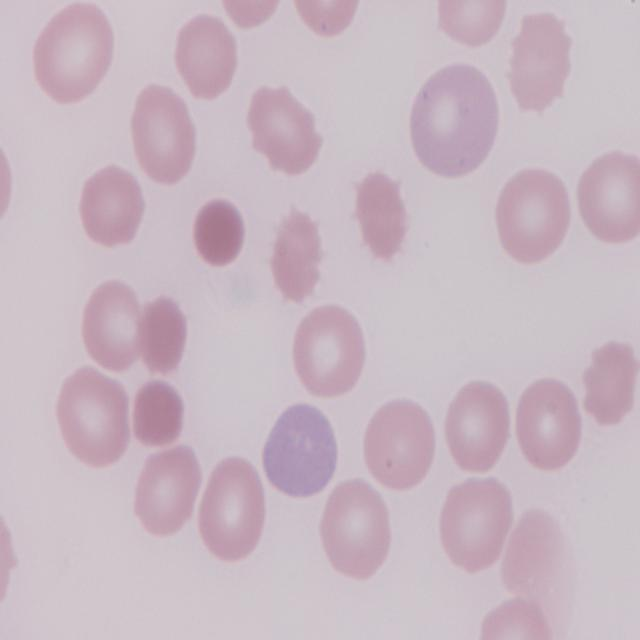RBC: (411, 61, 504, 180), (32, 0, 118, 110), (491, 159, 572, 268), (262, 398, 342, 506), (438, 472, 516, 579), (290, 302, 370, 406), (358, 394, 441, 494), (318, 476, 396, 582), (56, 365, 135, 467), (504, 5, 574, 120), (197, 454, 270, 564), (440, 376, 516, 476), (243, 82, 320, 178), (128, 80, 196, 188), (512, 372, 584, 472), (130, 444, 202, 540), (573, 150, 640, 249), (82, 278, 150, 370), (80, 163, 148, 253), (175, 11, 242, 102), (434, 0, 514, 57), (287, 0, 363, 36)
Spherocyte: (130, 377, 190, 448), (190, 196, 247, 268)
